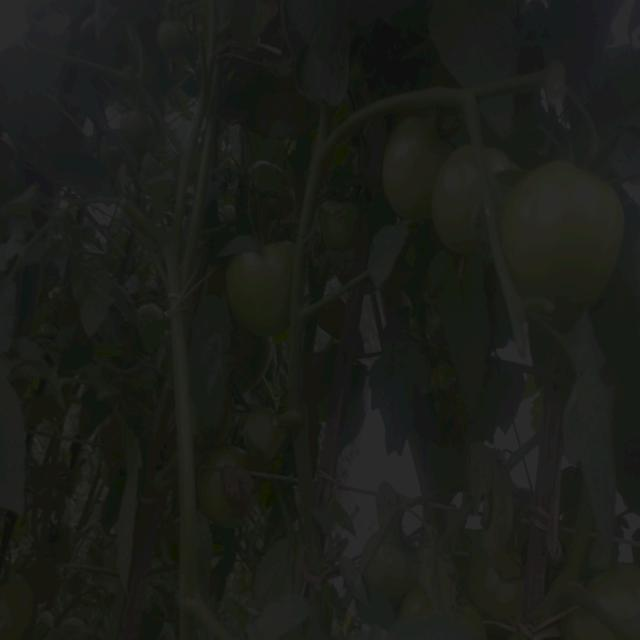tomato: (506, 168, 629, 305), (229, 256, 295, 346), (382, 119, 438, 219), (436, 141, 482, 248), (469, 551, 527, 619), (371, 538, 422, 600), (592, 566, 640, 622), (196, 455, 228, 522), (150, 16, 194, 62), (242, 407, 279, 456), (116, 104, 147, 137)
